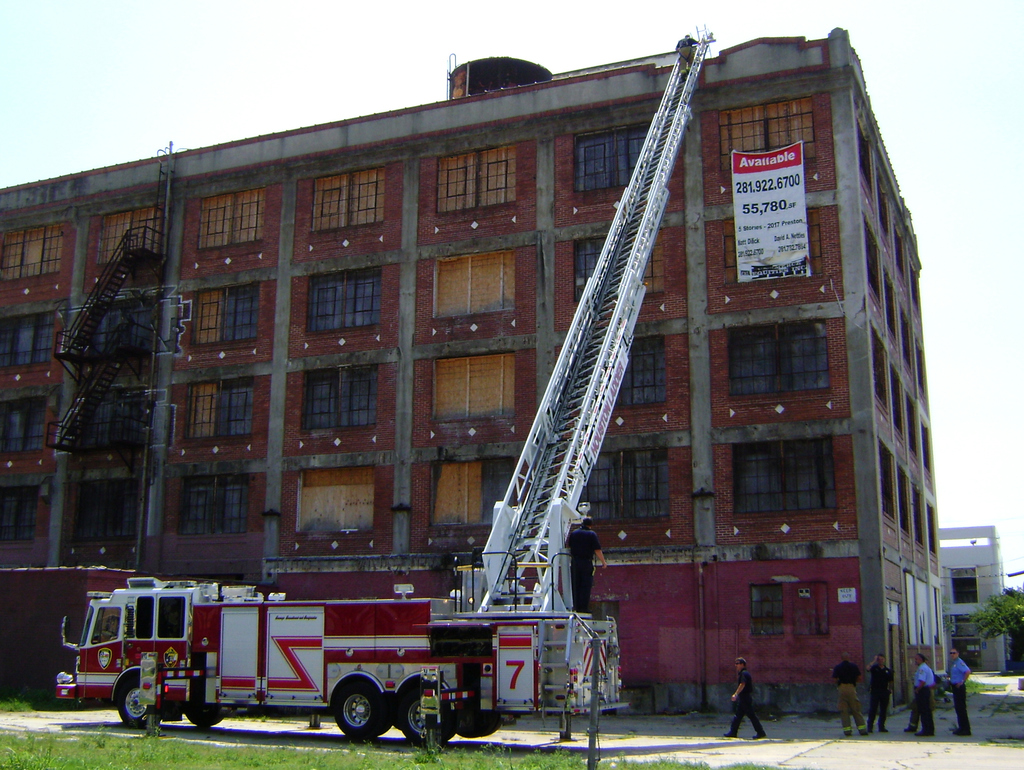truck: (39, 541, 638, 740)
